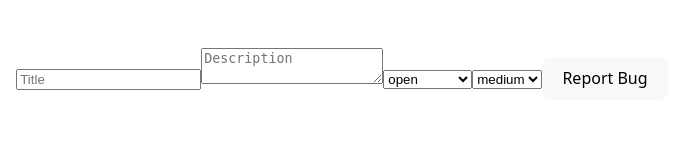
shows validation errors for short inputs
Type "Hi" into the field labelled "Title".
click(109, 80); type("Hi")  # box x1=16 y1=69 x2=201 y2=90
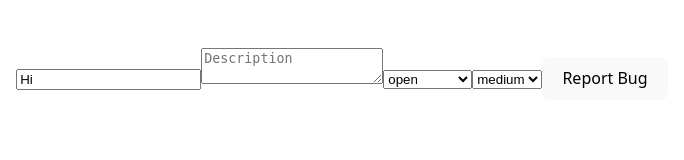
Type "short" into the text box labelled "Description".
click(292, 66); type("short")  # box x1=201 y1=48 x2=383 y2=84
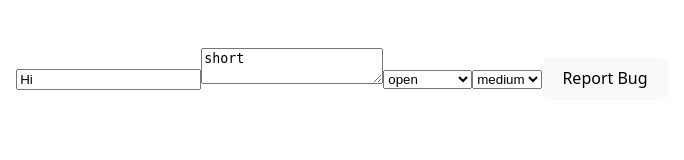
Click the button "Report Bug".
click(605, 78)  # box x1=542 y1=57 x2=668 y2=100
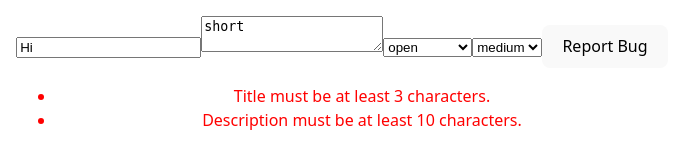
Check: the message is shown, box x1=202 y1=85 x2=522 y2=131
